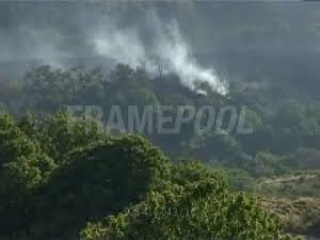smoke: (142, 22, 233, 101)
